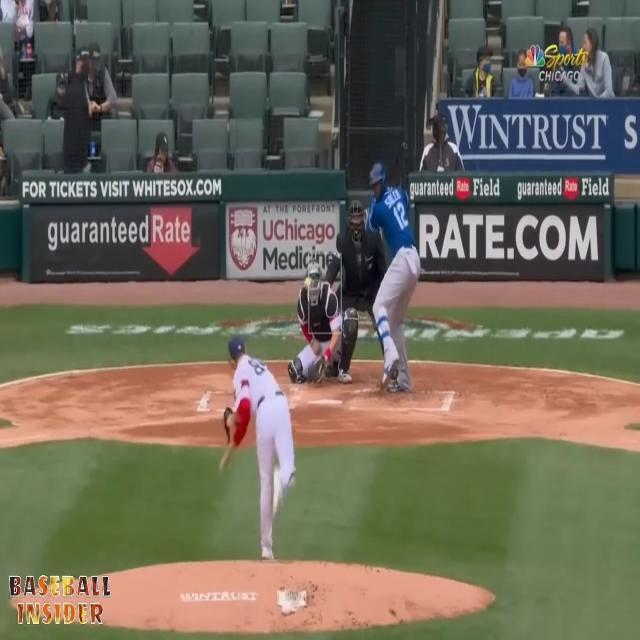ball: (304, 276, 314, 286)
